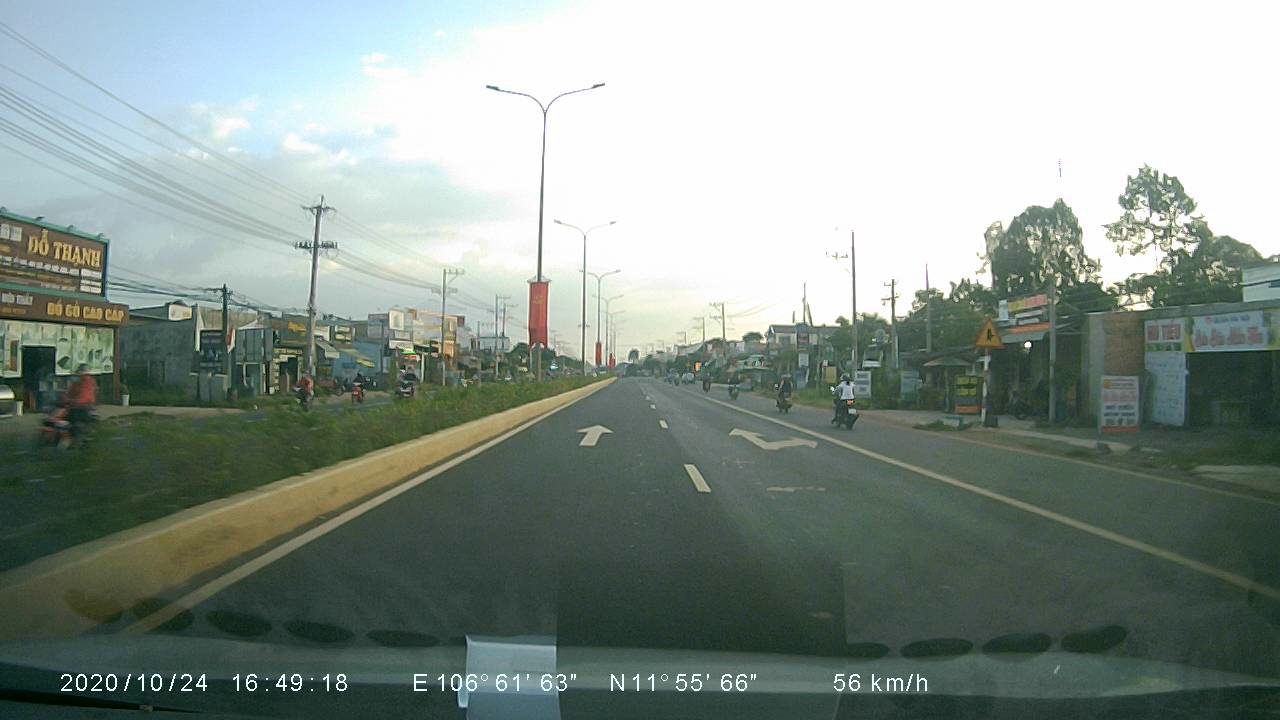Giao nhau voi duong khong uu tien: (973, 315, 1010, 350)
